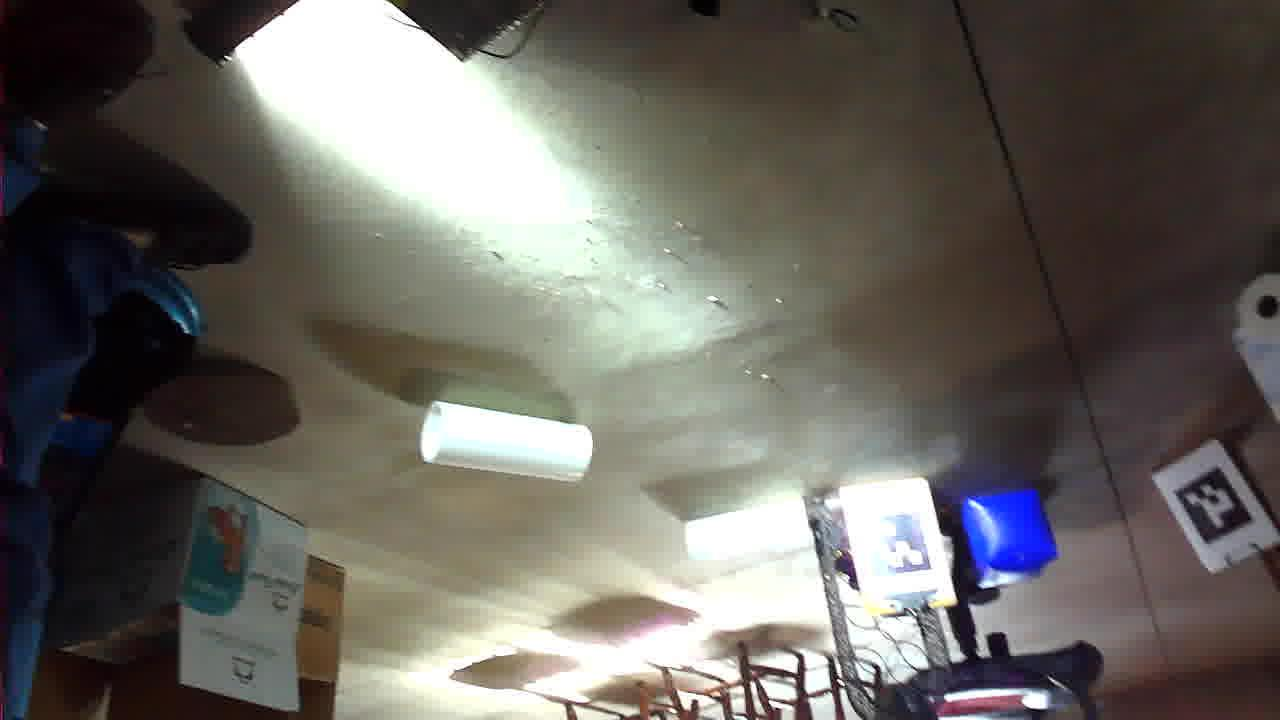coral: (688, 237, 858, 320), (472, 161, 595, 214)
